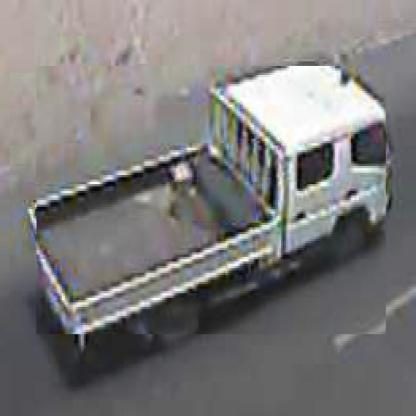truck: (36, 67, 387, 337)
